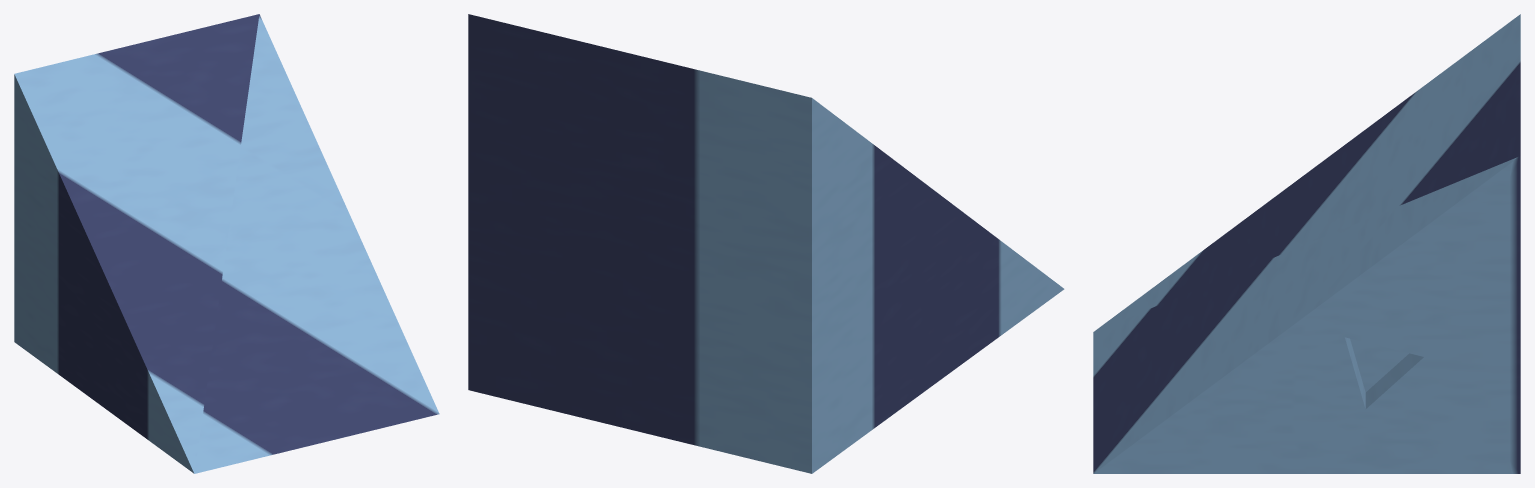
3 views of the same model, side by side, from view 1: azimuth 30°, elevation 25°; view 2: azimuth 150°, elevation 25°; view 3: azimuth 270°, elevation 25° (orthographic). The views are drawn at different scales.
Visible parts, largest first — view 1: geometry_0; view 2: geometry_0; view 3: geometry_0.
Part boxes in pixels (x1,y1,x2,y2): geometry_0: [14, 14, 439, 473]; geometry_0: [468, 14, 1064, 473]; geometry_0: [1093, 14, 1520, 473].
Bounding box in the file's own units: 1.44 × 1.51 × 1.84.
Materials: 1 (1 with a texture image).
